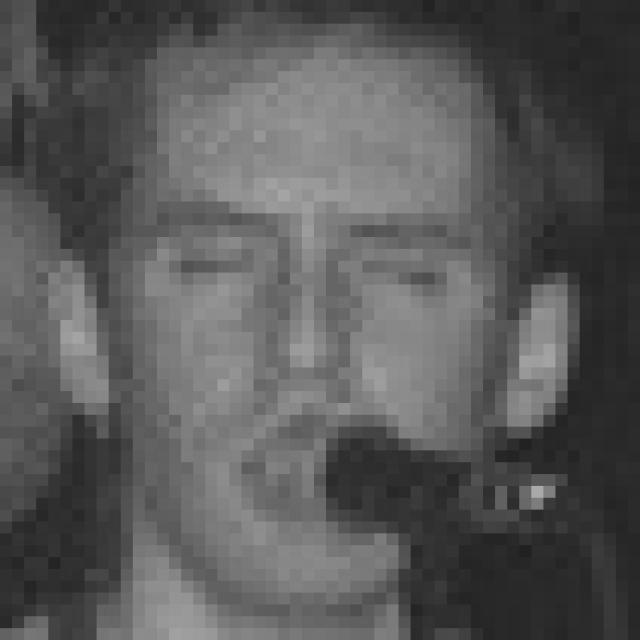real: (116, 8, 536, 546), (164, 220, 469, 308)
